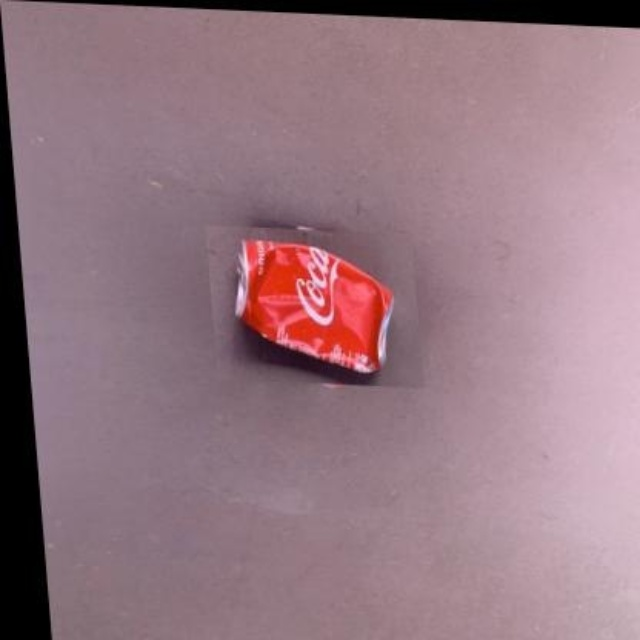trash: (235, 240, 392, 372)
